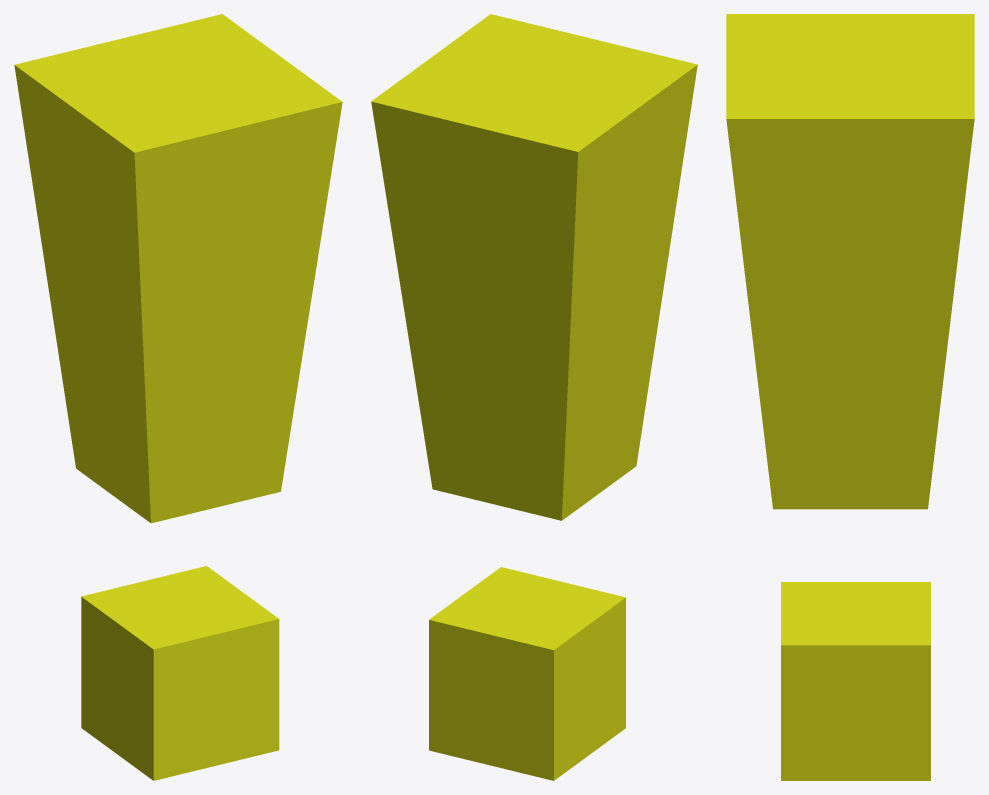
The model's file is exclamation_mark.fbx.
3 views of the same model, side by side, from view 1: azimuth 30°, elevation 25°; view 2: azimuth 150°, elevation 25°; view 3: azimuth 270°, elevation 25° (orthographic). The views are drawn at different scales.
Visible parts, largest first — view 1: Cube, Cube.001; view 2: Cube, Cube.001; view 3: Cube, Cube.001.
Boxes of the visible parts, bbox=[...] form: Cube: bbox=[14, 14, 342, 523]; Cube.001: bbox=[81, 566, 279, 780]; Cube: bbox=[371, 14, 697, 520]; Cube.001: bbox=[429, 567, 625, 780]; Cube: bbox=[726, 14, 974, 509]; Cube.001: bbox=[781, 582, 930, 780].
Size of the model in its own units: 110 by 332 by 110.
